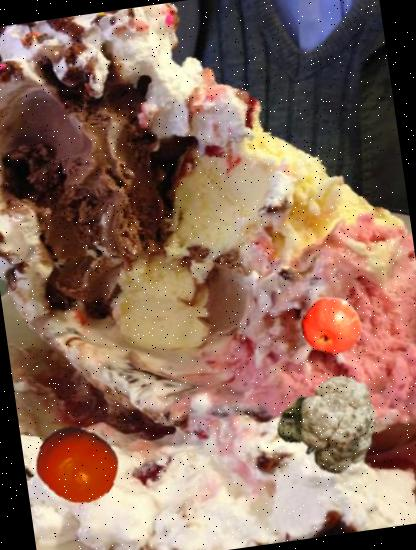Cauliflower: (270, 368, 384, 483)
Clementine: (30, 418, 124, 512), (295, 290, 367, 362)
